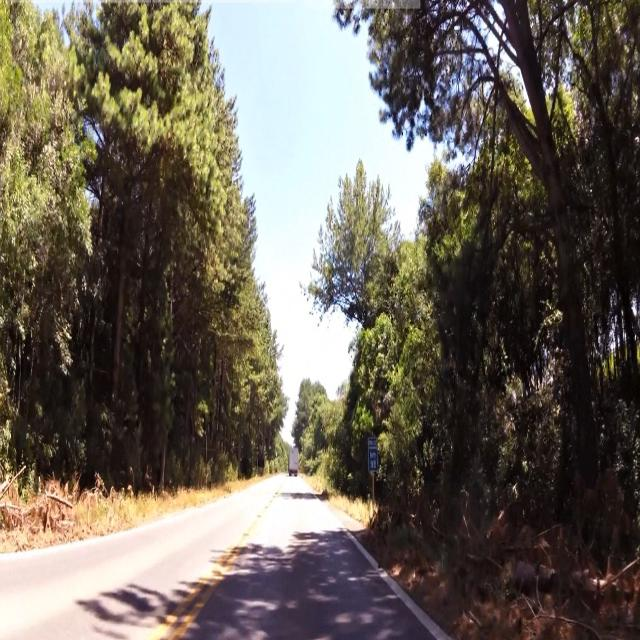RQ: (367, 436, 380, 475)
